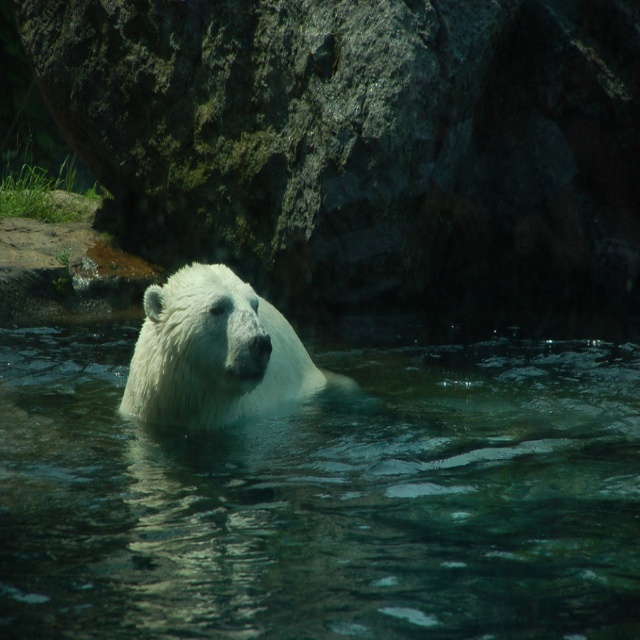Polar bear: (118, 263, 330, 433)
